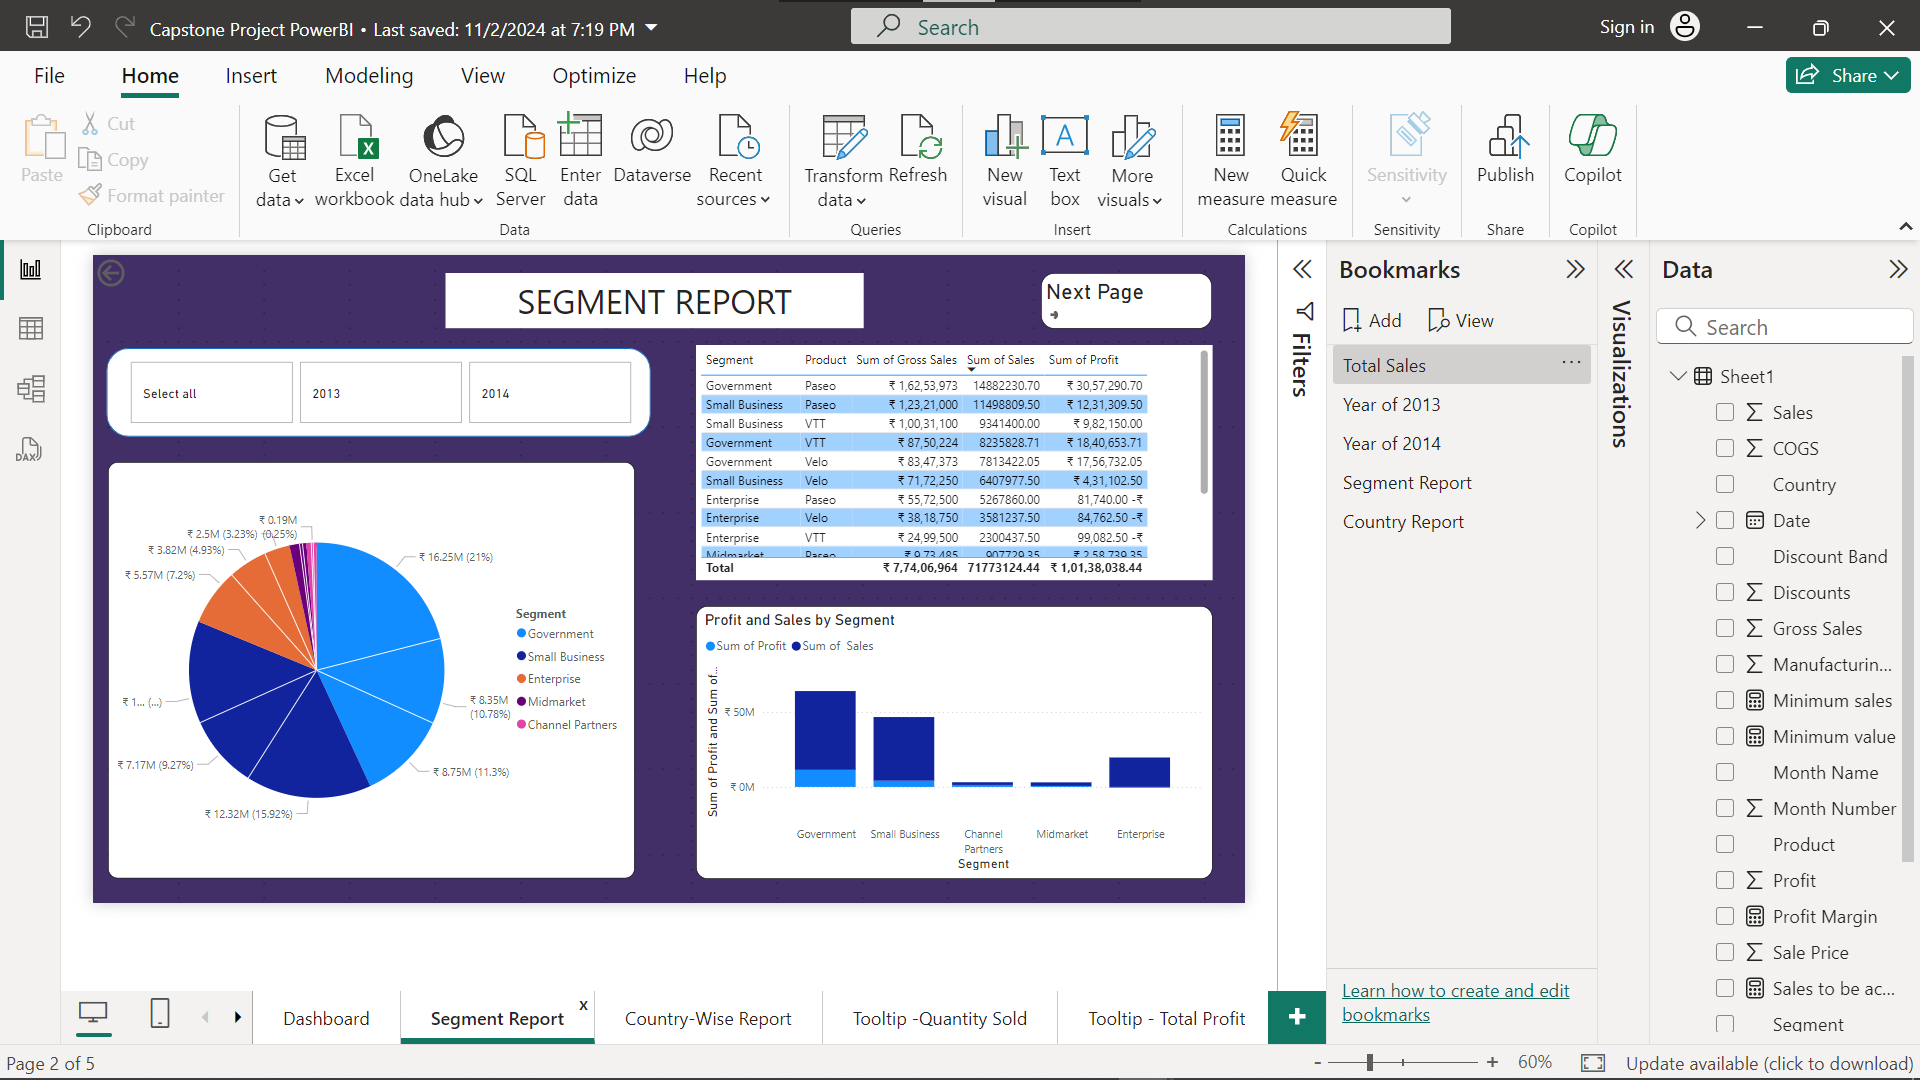

What the dashboard file says about the page in this screenshot:
{"tool":"powerbi","page":{"name":"Segment Report","canvas":[1280,720],"ordinal":1},"visuals":[{"type":"shape","box":[15.6,103.8,604.5,98.6],"z":0},{"type":"advancedSlicerVisual","fields":{"Values":["Sheet1.Year"]},"box":[36.5,113.3,566.4,78.7],"z":1000},{"type":"pieChart","fields":{"Category":["Sheet1.Segment"],"Y":["Sheet1.Gross Sales"],"Series":["Sheet1.Product"]},"box":[17.3,230.4,585.6,462.7],"z":2000},{"type":"columnChart","title":"Profit and  Sales by Segment","fields":{"Category":["Sheet1.Segment"],"Y":["Sheet1.Profit","Sheet1. Sales"]},"box":[670.1,389.8,574.1,303.4],"z":3000},{"type":"tableEx","fields":{"Values":["Sheet1.Segment","Sheet1.Product","Sheet1.Gross Sales","Sheet1. Sales","Sheet1.Profit"]},"box":[670.1,99.8,574.1,261.1],"z":4000},{"type":"actionButton","box":[0,0,100,40],"z":5000},{"type":"textbox","box":[391.7,19.2,464.6,61.4],"z":6000}]}

Visuals, with their boxes on the page's 1280x720 design canvas (x1, y1, x2, y2). These are canvas units, not pixel positions in the 1920x1080 screenshot, which may show the page scaled, cropped or inside an application window:
shape: {"x1": 16, "y1": 104, "x2": 620, "y2": 202}
advancedSlicerVisual - Sheet1.Year: {"x1": 36, "y1": 113, "x2": 603, "y2": 192}
pieChart - Sheet1.Segment x Sheet1.Gross Sales: {"x1": 17, "y1": 230, "x2": 603, "y2": 693}
"Profit and  Sales by Segment" columnChart: {"x1": 670, "y1": 390, "x2": 1244, "y2": 693}
tableEx - Sheet1.Segment x Sheet1.Product: {"x1": 670, "y1": 100, "x2": 1244, "y2": 361}
actionButton: {"x1": 0, "y1": 0, "x2": 100, "y2": 40}
textbox: {"x1": 392, "y1": 19, "x2": 856, "y2": 81}
